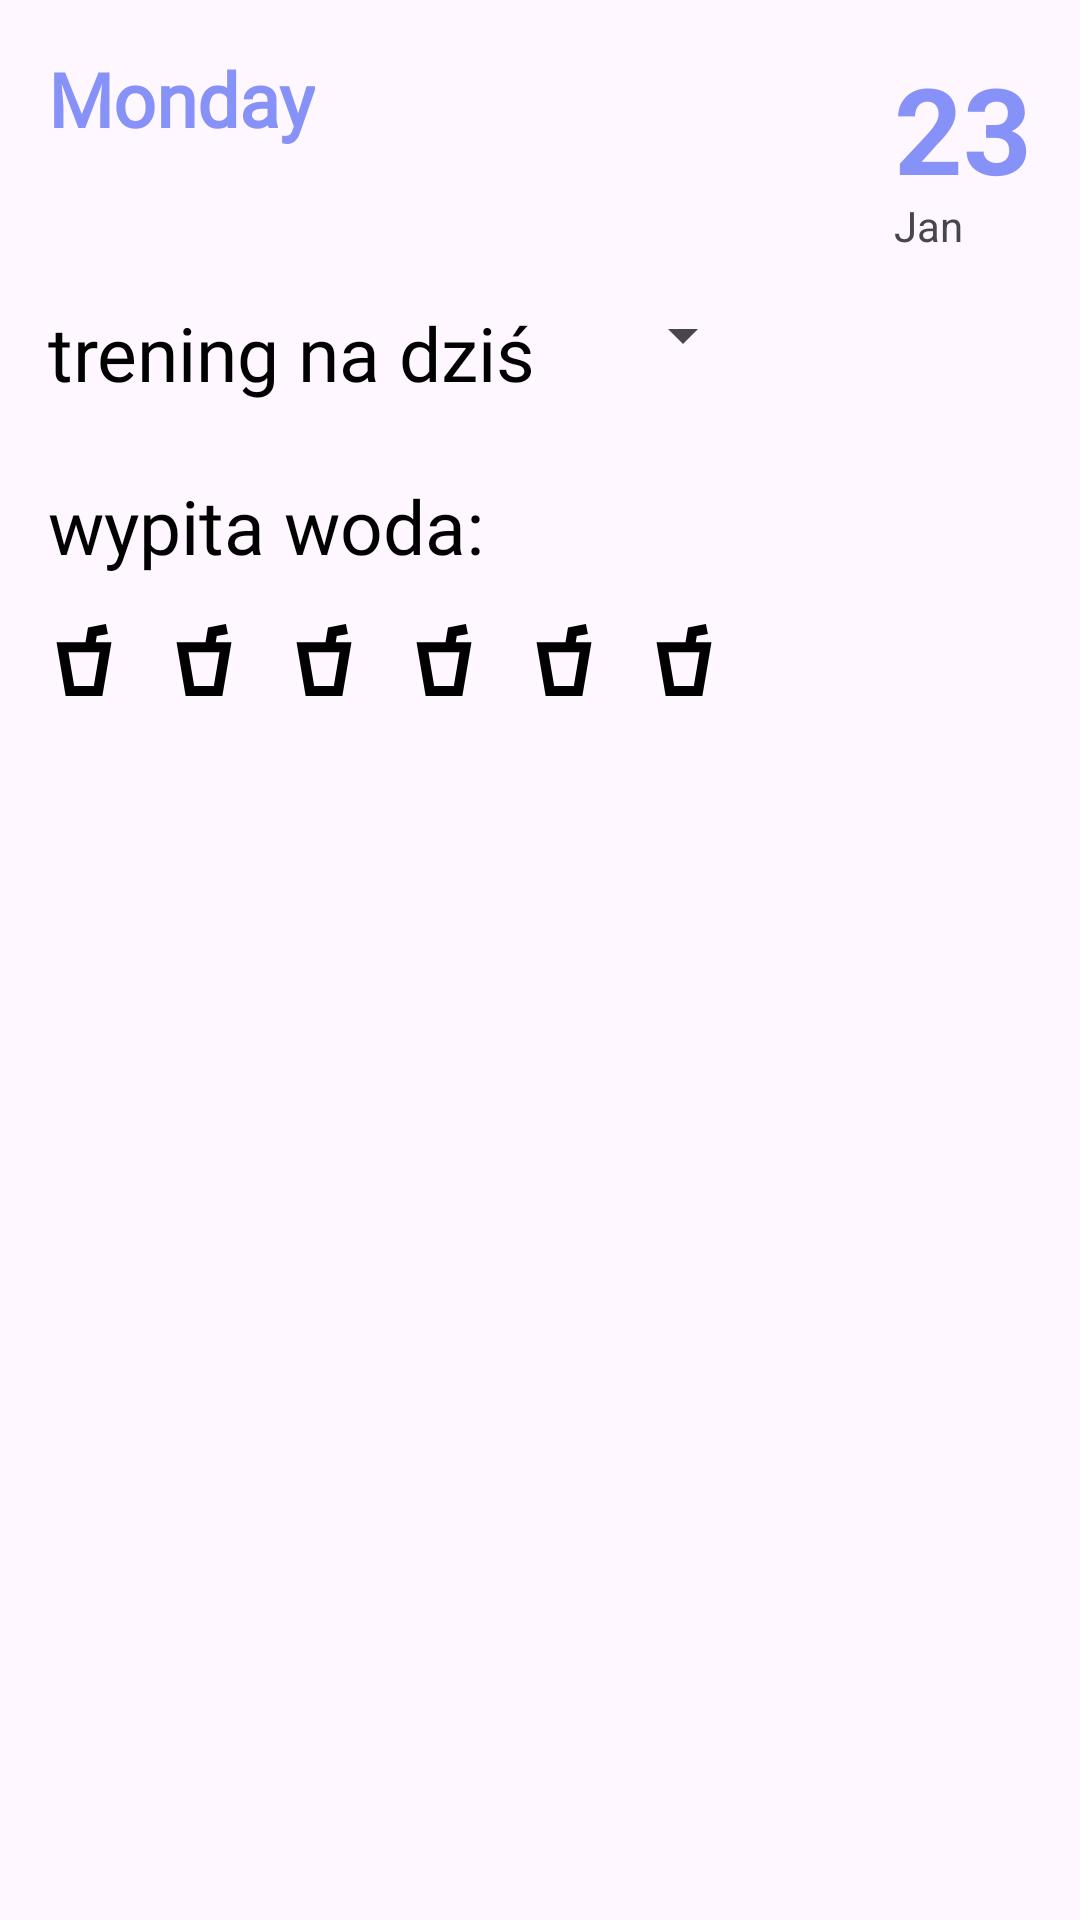

Point at icon controls on the screen. Image size 1080x1920, points as (x=x, y=y).
glass with straw: (x=84, y=660), (x=204, y=660), (x=324, y=660), (x=444, y=660), (x=564, y=660), (x=684, y=660)
